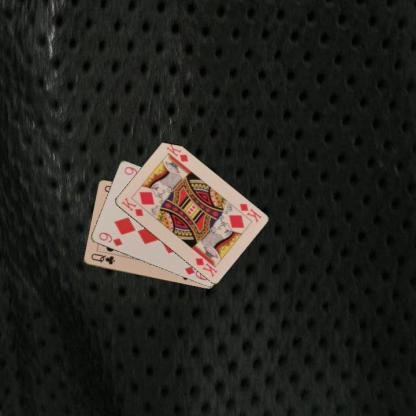9d: (96, 229, 124, 248)
Kd: (236, 201, 262, 224), (119, 195, 144, 217)
Qc: (88, 251, 116, 266)
